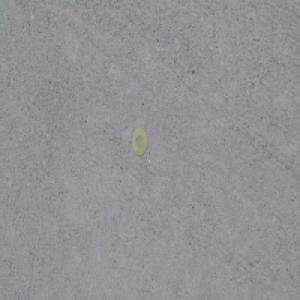Washer: (132, 127, 149, 157)
